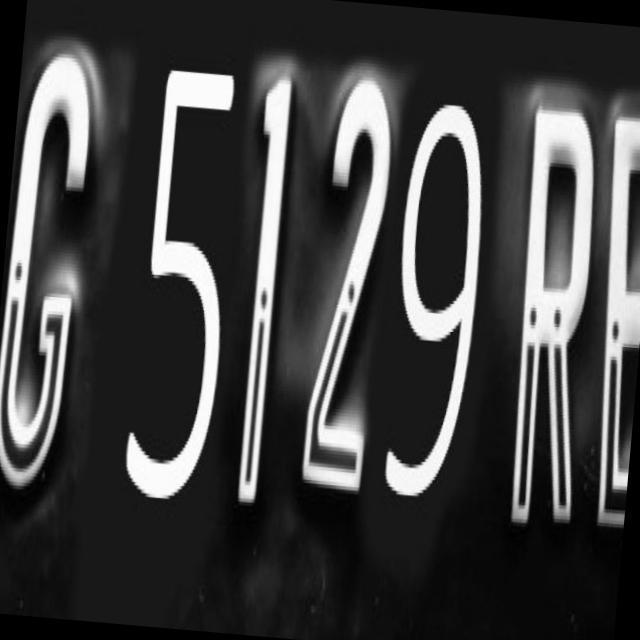1: (212, 59, 311, 533)
2: (301, 59, 405, 502)
5: (118, 40, 254, 530)
9: (372, 83, 493, 516)
B: (582, 109, 640, 533)
G: (0, 35, 105, 512)
R: (482, 79, 614, 530)
